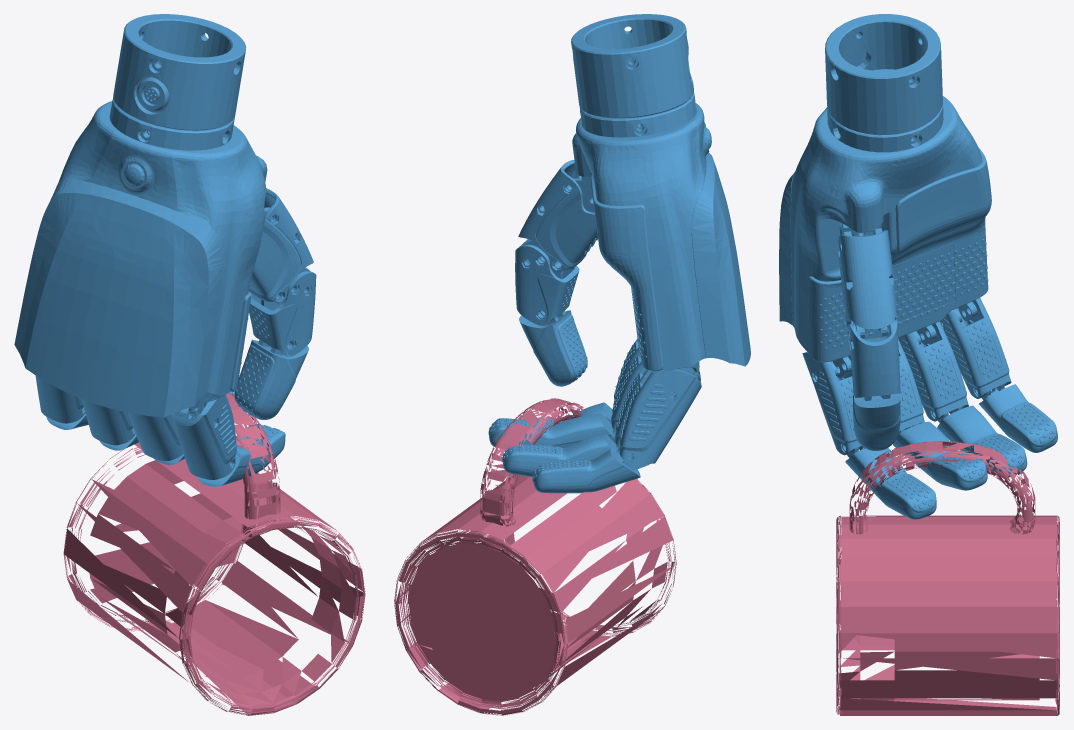
3 views of the same model, side by side, from view 1: azimuth 30°, elevation 25°; view 2: azimuth 150°, elevation 25°; view 3: azimuth 270°, elevation 25° (orthographic). The views are drawn at different scales.
Visible parts, largest first — view 1: 7; view 2: 7; view 3: 7.
Boxes of the visible parts, x1,y1,x2,y2 form: 7: (14, 14, 365, 715); 7: (394, 14, 750, 715); 7: (779, 14, 1059, 715).
Bounding box in the file's own units: 0.1396 × 0.3042 × 0.121.
